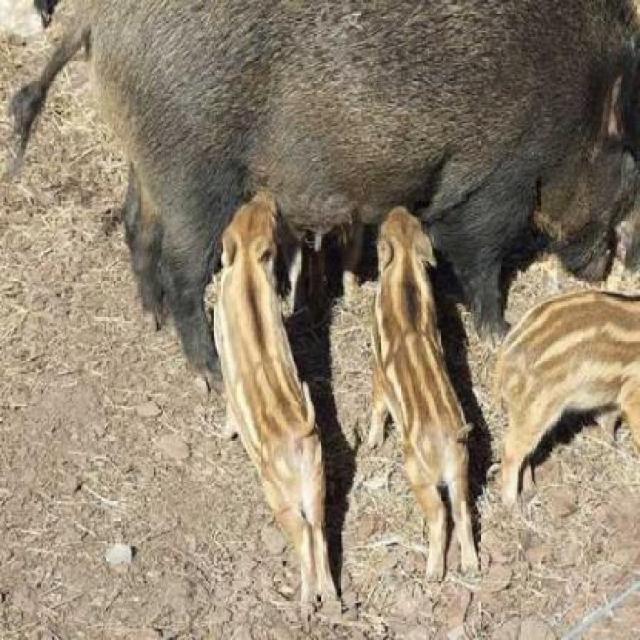pig: (0, 0, 640, 305), (192, 155, 328, 561), (340, 140, 465, 568), (492, 257, 638, 507)
